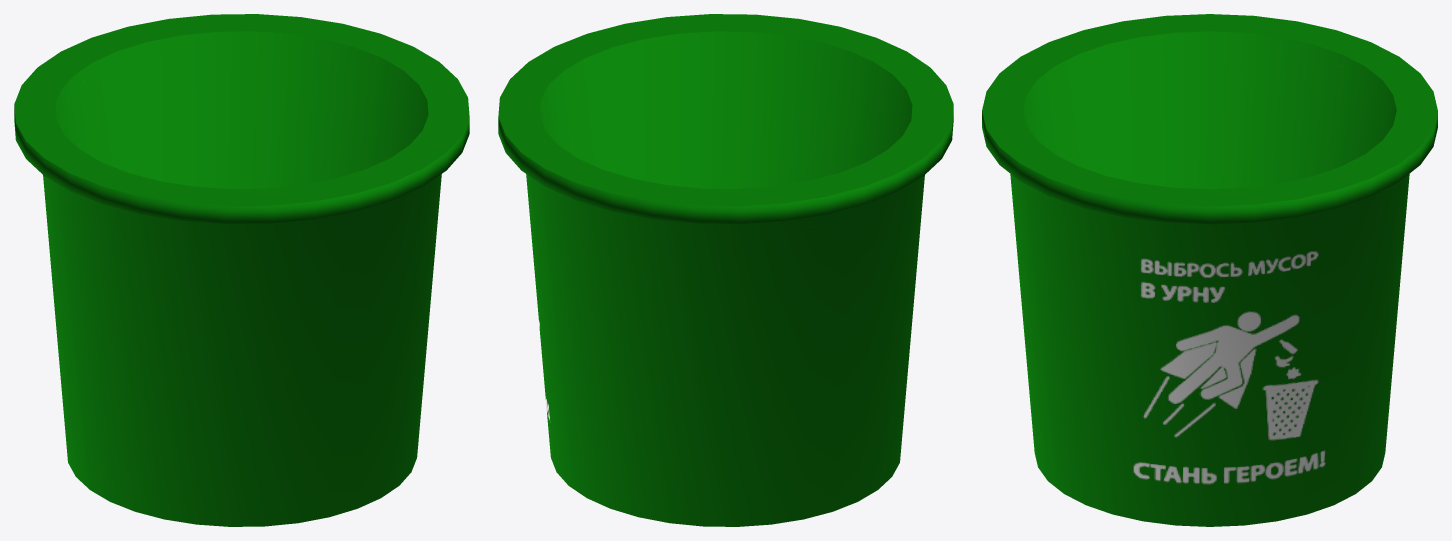
Rendered from garbage_korzona_fbx.fbx.
3 views of the same model, side by side, from view 1: azimuth 30°, elevation 25°; view 2: azimuth 150°, elevation 25°; view 3: azimuth 270°, elevation 25° (orthographic).
Visible parts, largest first — view 1: Цилиндр; view 2: Цилиндр; view 3: Цилиндр.
Boxes of the visible parts, x1,y1,x2,y2 form: Цилиндр: [14, 14, 469, 526]; Цилиндр: [498, 14, 953, 526]; Цилиндр: [982, 14, 1437, 526].
Bounding box in the file's own units: 260 × 216 × 260.
Materials: 1 (1 with a texture image).
